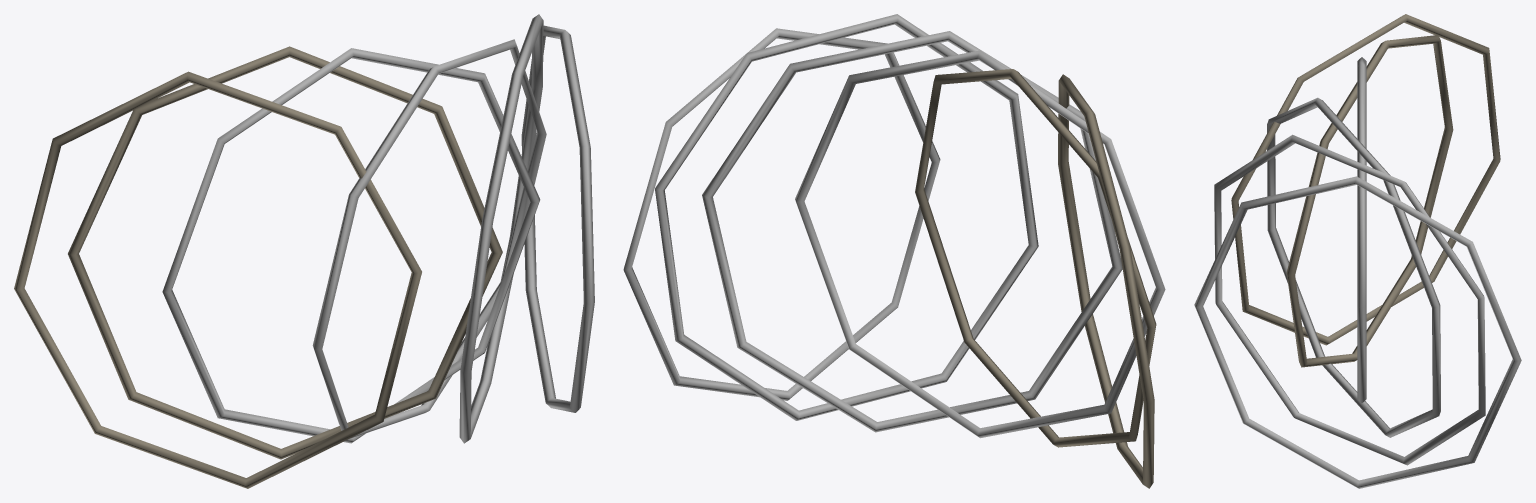
Rendered from concertina-wire.glb.
3 views of the same model, side by side, from view 1: azimuth 30°, elevation 25°; view 2: azimuth 150°, elevation 25°; view 3: azimuth 270°, elevation 25° (orthographic). The views are drawn at different scales.
Parts seen in each view (by area): view 1: Mesh_Wire_Ring5, Mesh_Wire_Ring3, Mesh_Wire_Ring1, Mesh_Wire_Ring4, Mesh_Wire_Ring2, Mesh_Wire_Ring6; view 2: Mesh_Wire_Ring2, Mesh_Wire_Ring4, Mesh_Wire_Ring1, Mesh_Wire_Ring5, Mesh_Wire_Ring6, Mesh_Wire_Ring3; view 3: Mesh_Wire_Ring6, Mesh_Wire_Ring4, Mesh_Wire_Ring3, Mesh_Wire_Ring2, Mesh_Wire_Ring5, Mesh_Wire_Ring1.
Part boxes in pixels (left/top/right/bottom): Mesh_Wire_Ring5: left=14, top=71, right=421, bottom=488; Mesh_Wire_Ring3: left=68, top=46, right=502, bottom=459; Mesh_Wire_Ring1: left=162, top=48, right=540, bottom=443; Mesh_Wire_Ring4: left=459, top=14, right=543, bottom=443; Mesh_Wire_Ring2: left=312, top=39, right=546, bottom=438; Mesh_Wire_Ring6: left=521, top=25, right=594, bottom=412; Mesh_Wire_Ring2: left=702, top=31, right=1122, bottom=432; Mesh_Wire_Ring4: left=655, top=14, right=1038, bottom=420; Mesh_Wire_Ring1: left=795, top=50, right=1165, bottom=438; Mesh_Wire_Ring5: left=1058, top=74, right=1154, bottom=488; Mesh_Wire_Ring6: left=623, top=28, right=940, bottom=400; Mesh_Wire_Ring3: left=915, top=69, right=1156, bottom=447; Mesh_Wire_Ring6: left=1194, top=176, right=1521, bottom=488; Mesh_Wire_Ring4: left=1214, top=134, right=1485, bottom=465; Mesh_Wire_Ring3: left=1286, top=35, right=1453, bottom=367; Mesh_Wire_Ring2: left=1267, top=97, right=1440, bottom=437; Mesh_Wire_Ring5: left=1231, top=14, right=1500, bottom=345; Mesh_Wire_Ring1: left=1357, top=57, right=1366, bottom=402.
Size of the model in its own units: 1.29 by 0.9583 by 0.8199.
